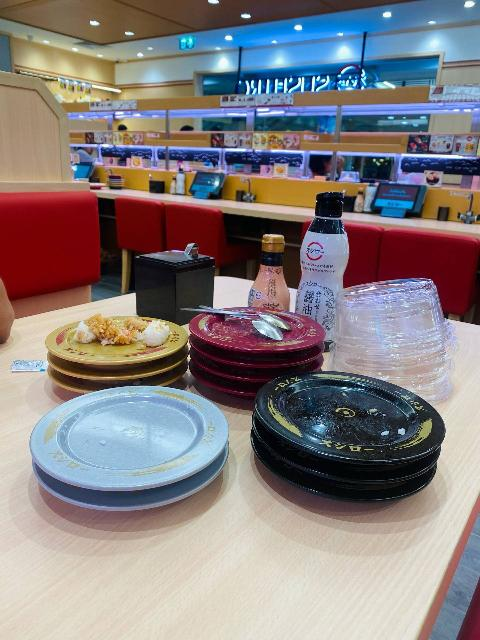janback: (262, 377, 439, 454), (252, 410, 443, 480), (249, 450, 438, 500), (108, 186, 123, 190)
jangold: (44, 319, 185, 354), (44, 356, 190, 378), (52, 376, 181, 391), (106, 182, 125, 185), (107, 184, 125, 187)
janred: (200, 310, 314, 349), (188, 334, 321, 365), (188, 360, 322, 384), (193, 373, 259, 399), (87, 184, 105, 190), (106, 173, 122, 177), (107, 175, 123, 179)
janwhite: (45, 383, 215, 472), (29, 466, 218, 506), (107, 180, 124, 182), (108, 179, 122, 181)
